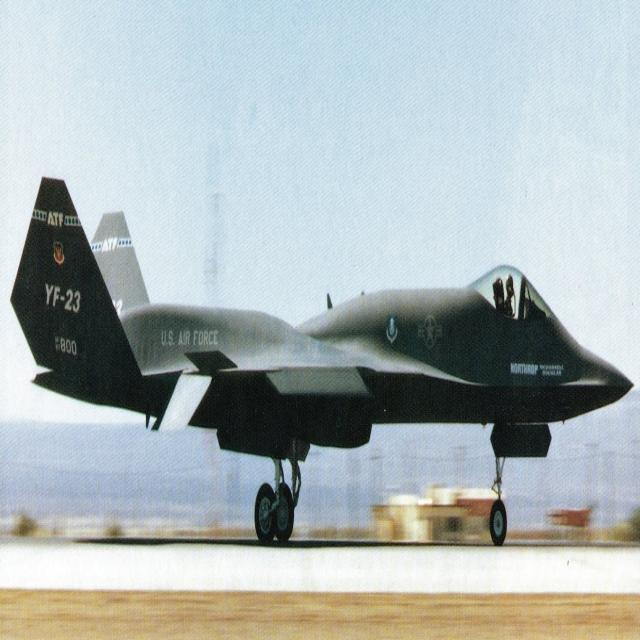MIL_Plane: (10, 176, 634, 546)
